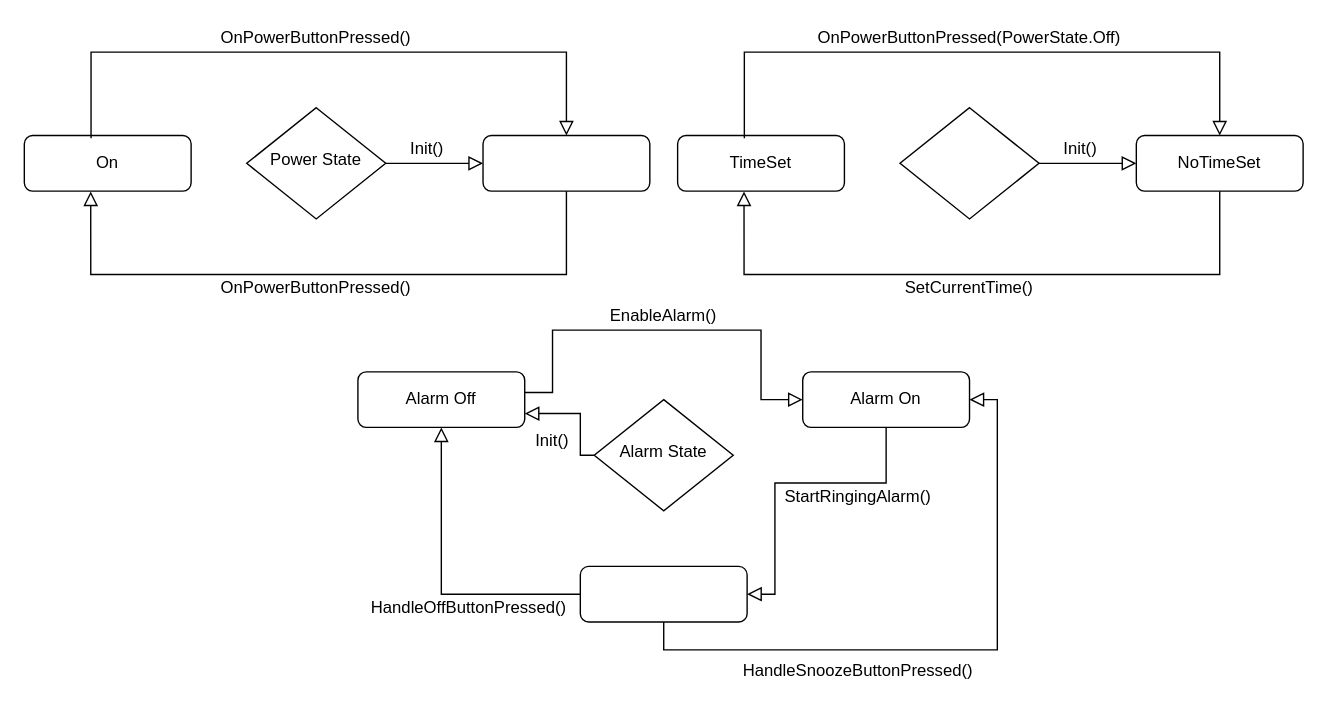
Some shapes in this 1327 by 708 pixel diagram are drawn without their labels. The centre of each missing label's shape, as x and y in pixels:
"Alarm Ringing" belongs at (x=663, y=593).
"Off" belongs at (x=566, y=162).
"Time Set State" belongs at (x=969, y=162).
